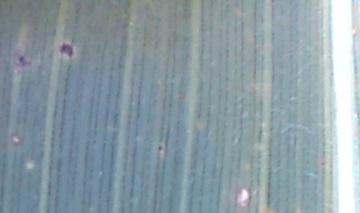tarspot: (56, 40, 75, 58), (16, 56, 29, 66), (156, 144, 163, 152), (319, 160, 324, 166)
